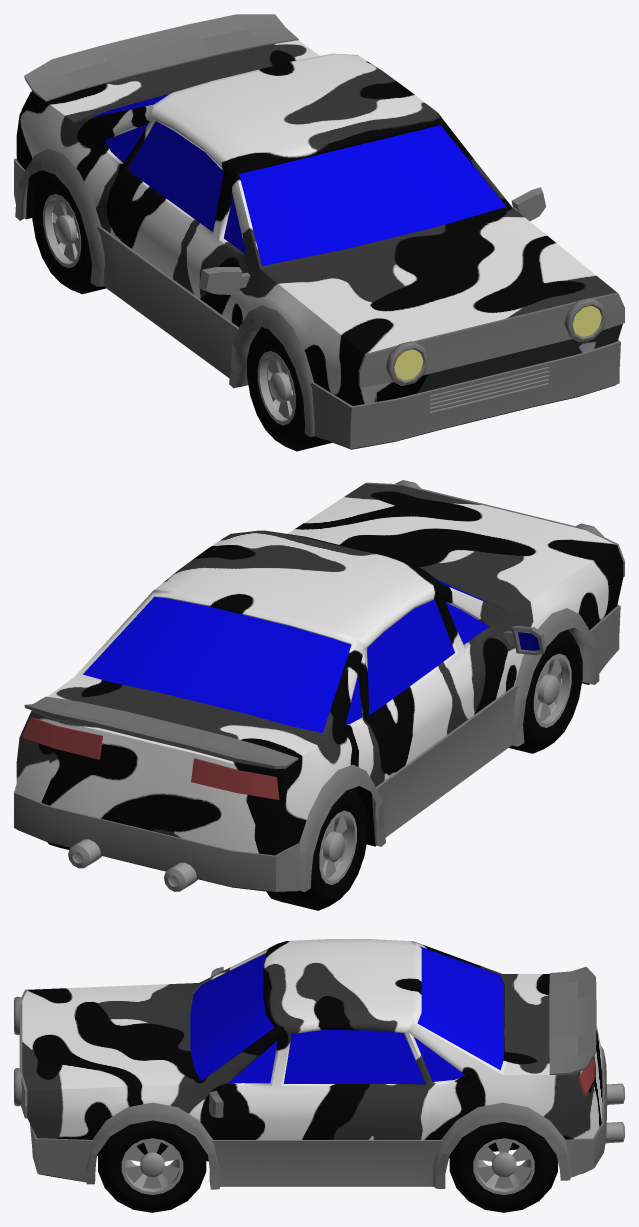
The model's file is Muscle Evolution2 Grey ArmyBlackWhite Blue LightGrey.gltf.
The picture shows the model from 3 angles, top to bottom: view 1: azimuth 30°, elevation 25°; view 2: azimuth 150°, elevation 25°; view 3: azimuth 270°, elevation 25°; orthographic projection. The views are drawn at different scales.
Visible parts, largest first — view 1: evo2_body2_f1_dupl, evo2_frontGlass_f1_dupl, evo2_sill2_f1_dupl, evo2_spoiler2_f1_dupl, evo2_front_square2_f1_dupl, evo2_glasseBigR_f1_dupl, evo2_mudguardFR_f1_dupl, evo2_mudguardbR_f1_dupl, evo2_tire_rf1_f1_dupl, evo2_tire_rf_f1_dupl, evo2_rim_A_rf_f1_dupl, evo2_rim_A_rb_f1_dupl (+9 smaller); view 2: evo2_body2_f1_dupl, evo2_BackGlassGlass_f1_dupl, evo2_sill2_f1_dupl, evo2_spoiler2_f1_dupl, evo2_glasseBigR_f1_dupl, evo2_tire_rf_f1_dupl, evo2_mudguardbR_f1_dupl, evo2_mudguardFR_f1_dupl, evo2_tire_rf1_f1_dupl, evo2_rim_A_rf_f1_dupl, evo2_rim_A_rb_f1_dupl, evo2_redlightR2_f1_dupl (+5 smaller); view 3: evo2_body2_f1_dupl, evo2_sill2_f1_dupl, evo2_BackGlassGlass_f1_dupl, evo2_glasseBigL_f1_dupl, evo2_frontGlass_f1_dupl, evo2_tire_lf_f1_dupl, evo2_tire_lb_f1_dupl, evo2_spoiler2_f1_dupl, evo2_mudguardBL_f1_dupl, evo2_mudguardFL_f1_dupl, evo2_rim_A_lf_f1_dupl, evo2_rim_A_lb_f1_dupl (+4 smaller).
Boxes of the visible parts, <box> form: evo2_body2_f1_dupl: <box>16,40,622,405</box>; evo2_frontGlass_f1_dupl: <box>239,125,505,265</box>; evo2_sill2_f1_dupl: <box>14,158,620,449</box>; evo2_spoiler2_f1_dupl: <box>24,14,298,101</box>; evo2_front_square2_f1_dupl: <box>358,292,624,387</box>; evo2_glasseBigR_f1_dupl: <box>128,121,223,231</box>; evo2_mudguardFR_f1_dupl: <box>229,305,314,437</box>; evo2_mudguardbR_f1_dupl: <box>15,148,104,286</box>; evo2_tire_rf1_f1_dupl: <box>247,327,331,451</box>; evo2_tire_rf_f1_dupl: <box>32,171,105,294</box>; evo2_rim_A_rf_f1_dupl: <box>257,351,295,425</box>; evo2_rim_A_rb_f1_dupl: <box>43,194,80,268</box>; evo2_body2_f1_dupl: <box>16,483,623,855</box>; evo2_BackGlassGlass_f1_dupl: <box>83,596,351,732</box>; evo2_sill2_f1_dupl: <box>14,605,620,891</box>; evo2_spoiler2_f1_dupl: <box>24,696,298,768</box>; evo2_glasseBigR_f1_dupl: <box>367,599,454,715</box>; evo2_tire_rf_f1_dupl: <box>266,787,367,910</box>; evo2_mudguardbR_f1_dupl: <box>299,764,385,891</box>; evo2_mudguardFR_f1_dupl: <box>512,608,599,746</box>; evo2_tire_rf1_f1_dupl: <box>509,629,582,753</box>; evo2_rim_A_rf_f1_dupl: <box>533,653,571,727</box>; evo2_rim_A_rb_f1_dupl: <box>319,810,356,884</box>; evo2_redlightR2_f1_dupl: <box>191,758,279,799</box>; evo2_body2_f1_dupl: <box>22,939,602,1159</box>; evo2_sill2_f1_dupl: <box>30,1045,607,1186</box>; evo2_BackGlassGlass_f1_dupl: <box>417,946,503,1070</box>; evo2_glasseBigL_f1_dupl: <box>283,1029,425,1084</box>; evo2_frontGlass_f1_dupl: <box>190,953,274,1080</box>; evo2_tire_lf_f1_dupl: <box>98,1120,206,1212</box>; evo2_tire_lb_f1_dupl: <box>449,1122,557,1212</box>; evo2_spoiler2_f1_dupl: <box>549,966,596,1074</box>; evo2_mudguardBL_f1_dupl: <box>433,1102,570,1188</box>; evo2_mudguardFL_f1_dupl: <box>86,1102,220,1189</box>; evo2_rim_A_lf_f1_dupl: <box>121,1138,183,1194</box>; evo2_rim_A_lb_f1_dupl: <box>473,1138,534,1194</box>.
Bounding box in the file's own units: 177 × 112 × 331.
7 materials, 1 textured.
